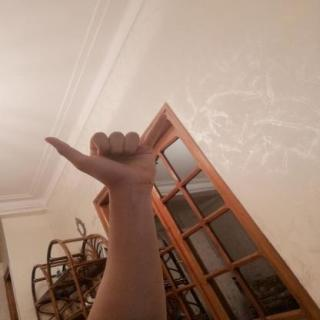YA: (37, 106, 181, 193)
